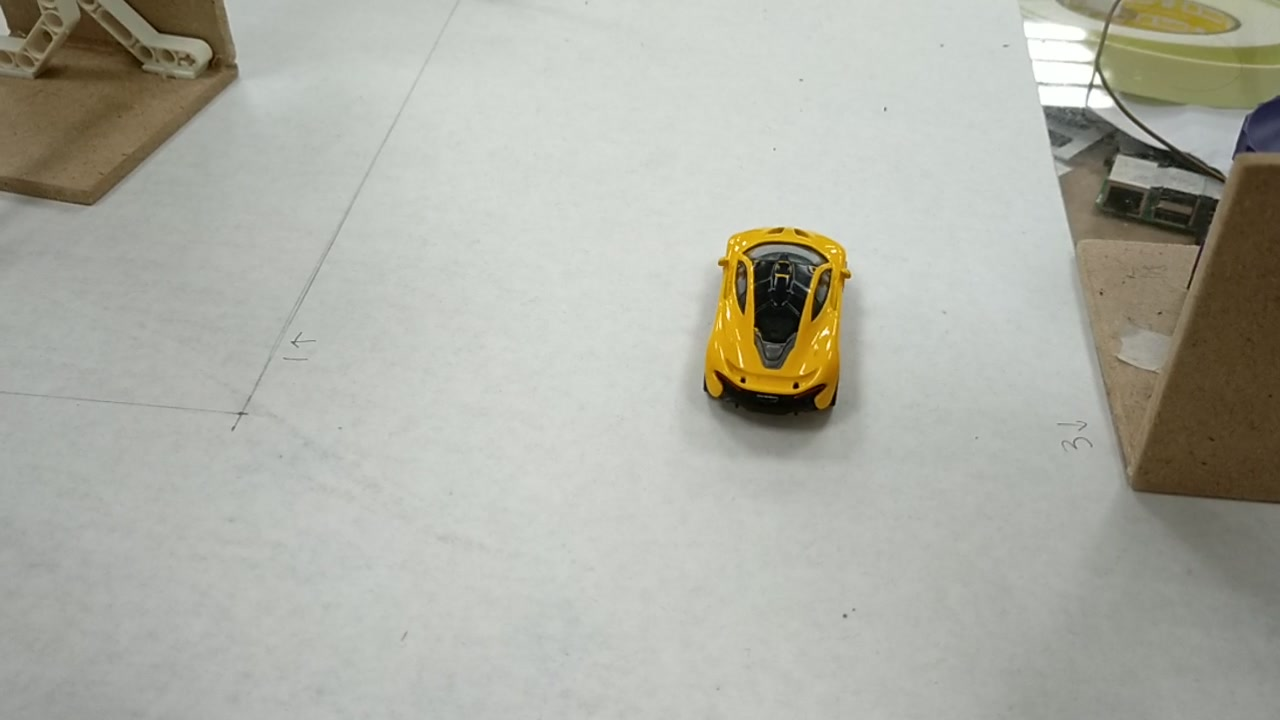car: (700, 231, 848, 405)
